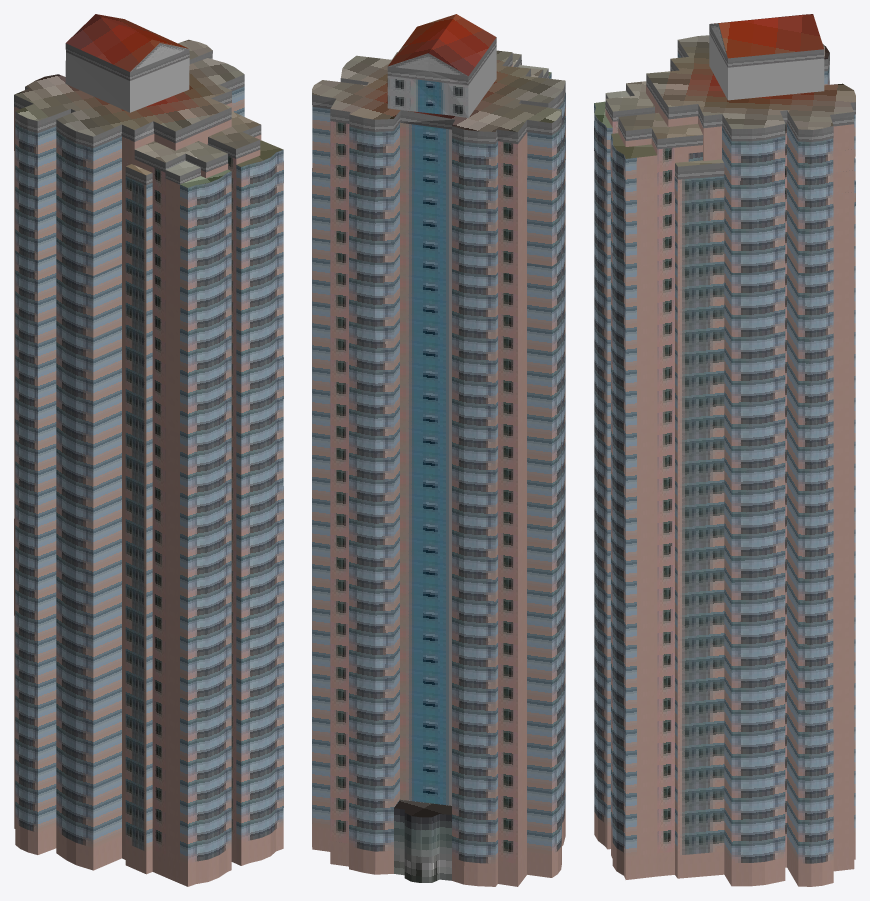
Rendered from HPDPKZ_lubanlu168nong1hao.dae.
The picture shows the model from 3 angles, left to right: view 1: azimuth 30°, elevation 25°; view 2: azimuth 150°, elevation 25°; view 3: azimuth 270°, elevation 25°; orthographic projection. The views are drawn at different scales.
Visible parts, largest first — view 1: HPDPKZ_lubanlu168nong1hao_louding2, HPDPKZ_lubanlu168nong1hao_36F_3602, HPDPKZ_lubanlu168nong1hao_35F_3501, HPDPKZ_lubanlu168nong1hao_3F_301, HPDPKZ_lubanlu168nong1hao_1F_101, HPDPKZ_lubanlu168nong1hao_35F_3506, HPDPKZ_lubanlu168nong1hao_32F_3201, HPDPKZ_lubanlu168nong1hao_26F_2601, HPDPKZ_lubanlu168nong1hao_29F_2901, HPDPKZ_lubanlu168nong1hao_28F_2801, HPDPKZ_lubanlu168nong1hao_30F_3001, HPDPKZ_lubanlu168nong1hao_33F_3301 (+125 smaller); view 2: HPDPKZ_lubanlu168nong1hao_louding2, HPDPKZ_lubanlu168nong1hao_37F_3703, HPDPKZ_lubanlu168nong1hao_3F_303, HPDPKZ_lubanlu168nong1hao_1F_103, HPDPKZ_lubanlu168nong1hao_35F_3503, HPDPKZ_lubanlu168nong1hao_24F_2403, HPDPKZ_lubanlu168nong1hao_27F_2703, HPDPKZ_lubanlu168nong1hao_30F_3003, HPDPKZ_lubanlu168nong1hao_29F_2903, HPDPKZ_lubanlu168nong1hao_34F_3403, HPDPKZ_lubanlu168nong1hao_25F_2503, HPDPKZ_lubanlu168nong1hao_26F_2603 (+95 smaller); view 3: HPDPKZ_lubanlu168nong1hao_louding2, HPDPKZ_lubanlu168nong1hao_36F_3605, HPDPKZ_lubanlu168nong1hao_35F_3506, HPDPKZ_lubanlu168nong1hao_3F_306, HPDPKZ_lubanlu168nong1hao_1F_106, HPDPKZ_lubanlu168nong1hao_25F_2506, HPDPKZ_lubanlu168nong1hao_28F_2806, HPDPKZ_lubanlu168nong1hao_29F_2906, HPDPKZ_lubanlu168nong1hao_30F_3006, HPDPKZ_lubanlu168nong1hao_24F_2406, HPDPKZ_lubanlu168nong1hao_34F_3406, HPDPKZ_lubanlu168nong1hao_32F_3206 (+92 smaller).
Boxes of the visible parts, x1=… form: HPDPKZ_lubanlu168nong1hao_louding2: x1=14, y1=14, x2=283, y2=187; HPDPKZ_lubanlu168nong1hao_36F_3602: x1=56, y1=131, x2=228, y2=192; HPDPKZ_lubanlu168nong1hao_35F_3501: x1=125, y1=168, x2=231, y2=230; HPDPKZ_lubanlu168nong1hao_3F_301: x1=125, y1=801, x2=231, y2=845; HPDPKZ_lubanlu168nong1hao_1F_101: x1=125, y1=843, x2=231, y2=886; HPDPKZ_lubanlu168nong1hao_35F_3506: x1=228, y1=150, x2=283, y2=209; HPDPKZ_lubanlu168nong1hao_32F_3201: x1=125, y1=250, x2=231, y2=292; HPDPKZ_lubanlu168nong1hao_26F_2601: x1=125, y1=374, x2=231, y2=416; HPDPKZ_lubanlu168nong1hao_29F_2901: x1=125, y1=312, x2=231, y2=354; HPDPKZ_lubanlu168nong1hao_28F_2801: x1=125, y1=333, x2=231, y2=374; HPDPKZ_lubanlu168nong1hao_30F_3001: x1=125, y1=292, x2=231, y2=333; HPDPKZ_lubanlu168nong1hao_33F_3301: x1=125, y1=230, x2=231, y2=271; HPDPKZ_lubanlu168nong1hao_louding2: x1=312, y1=14, x2=565, y2=144; HPDPKZ_lubanlu168nong1hao_37F_3703: x1=452, y1=122, x2=561, y2=168; HPDPKZ_lubanlu168nong1hao_3F_303: x1=452, y1=799, x2=561, y2=844; HPDPKZ_lubanlu168nong1hao_1F_103: x1=452, y1=842, x2=561, y2=886; HPDPKZ_lubanlu168nong1hao_35F_3503: x1=452, y1=169, x2=561, y2=211; HPDPKZ_lubanlu168nong1hao_24F_2403: x1=452, y1=403, x2=561, y2=445; HPDPKZ_lubanlu168nong1hao_27F_2703: x1=452, y1=339, x2=561, y2=381; HPDPKZ_lubanlu168nong1hao_30F_3003: x1=452, y1=275, x2=561, y2=317; HPDPKZ_lubanlu168nong1hao_29F_2903: x1=452, y1=296, x2=561, y2=338; HPDPKZ_lubanlu168nong1hao_34F_3403: x1=452, y1=190, x2=561, y2=232; HPDPKZ_lubanlu168nong1hao_25F_2503: x1=452, y1=381, x2=561, y2=423; HPDPKZ_lubanlu168nong1hao_26F_2603: x1=452, y1=360, x2=561, y2=402; HPDPKZ_lubanlu168nong1hao_louding2: x1=594, y1=14, x2=855, y2=179; HPDPKZ_lubanlu168nong1hao_36F_3605: x1=618, y1=102, x2=785, y2=187; HPDPKZ_lubanlu168nong1hao_35F_3506: x1=610, y1=133, x2=706, y2=202; HPDPKZ_lubanlu168nong1hao_3F_306: x1=611, y1=790, x2=706, y2=837; HPDPKZ_lubanlu168nong1hao_1F_106: x1=611, y1=832, x2=706, y2=879; HPDPKZ_lubanlu168nong1hao_25F_2506: x1=611, y1=370, x2=706, y2=415; HPDPKZ_lubanlu168nong1hao_28F_2806: x1=611, y1=306, x2=706, y2=351; HPDPKZ_lubanlu168nong1hao_29F_2906: x1=611, y1=285, x2=706, y2=330; HPDPKZ_lubanlu168nong1hao_30F_3006: x1=611, y1=264, x2=706, y2=309; HPDPKZ_lubanlu168nong1hao_24F_2406: x1=611, y1=392, x2=706, y2=437; HPDPKZ_lubanlu168nong1hao_34F_3406: x1=611, y1=178, x2=706, y2=223; HPDPKZ_lubanlu168nong1hao_32F_3206: x1=611, y1=221, x2=706, y2=266.
Size of the model in its own units: 34 by 122 by 35.29.
Materials: 24 (24 with a texture image).
